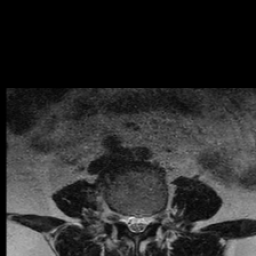CCS_normal: (133, 206, 141, 241)
LFS_normal: (149, 203, 158, 232)
LLS_normal: (141, 205, 149, 237)
RFS_normal: (117, 204, 125, 228)
RLS_normal: (125, 205, 133, 234)
